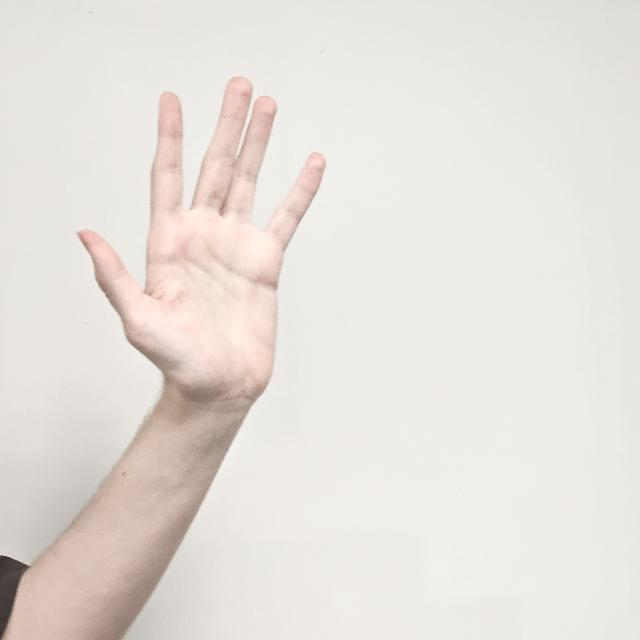X: (76, 73, 327, 414)
